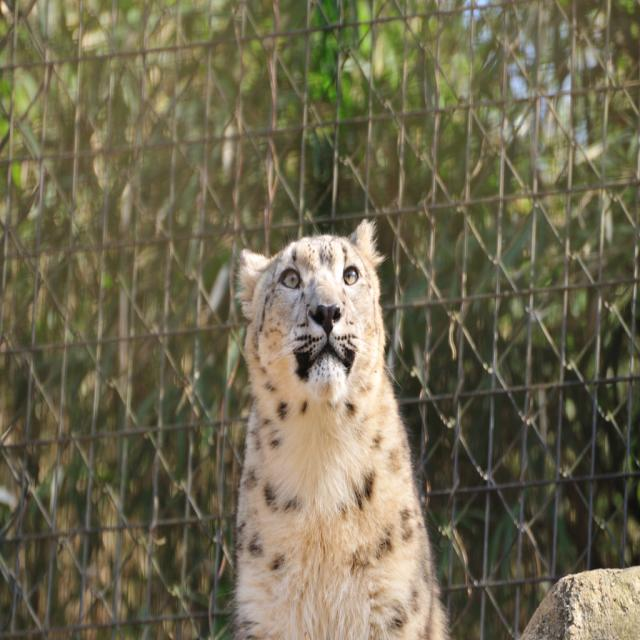Cheetah: (215, 212, 455, 640)
